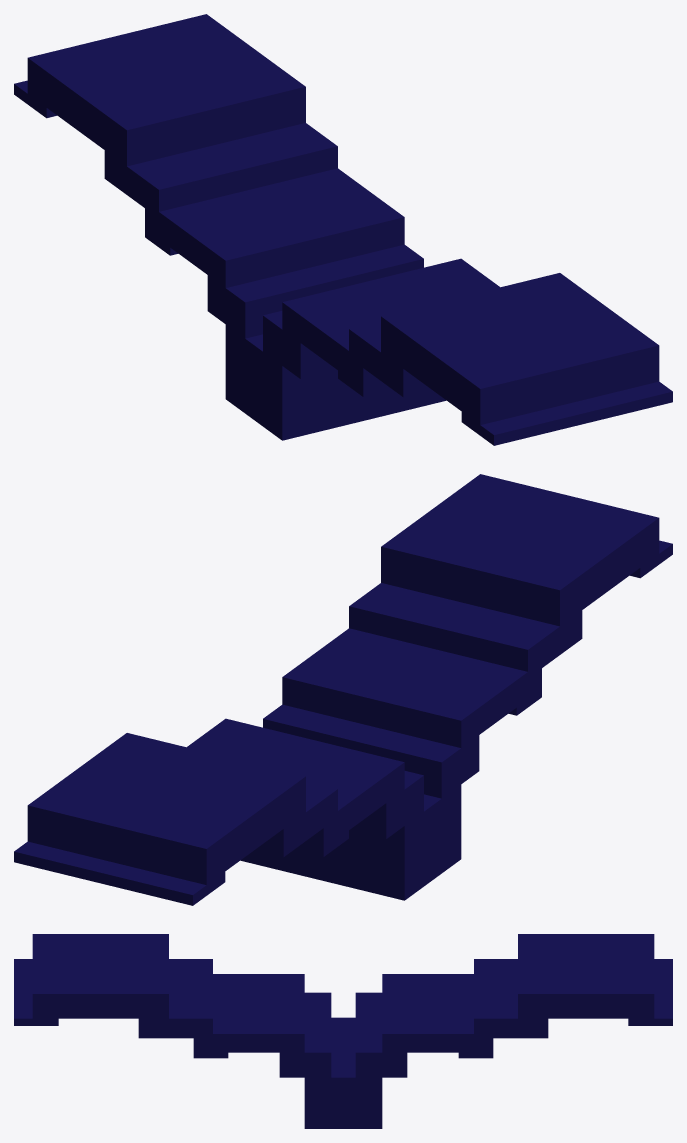
File: birdcolorasset.fbx
3 renders of one model, top to bottom at view 1: azimuth 30°, elevation 25°; view 2: azimuth 150°, elevation 25°; view 3: azimuth 270°, elevation 25°, orthographic. The views are drawn at different scales.
Visible parts, largest first — view 1: Cube; view 2: Cube; view 3: Cube.
Boxes of the visible parts, x1,y1,x2,y2 form: Cube: (14,14,672,445); Cube: (14,474,672,905); Cube: (14,934,672,1128).
Bounding box in the file's own units: 100 × 105 × 465.
